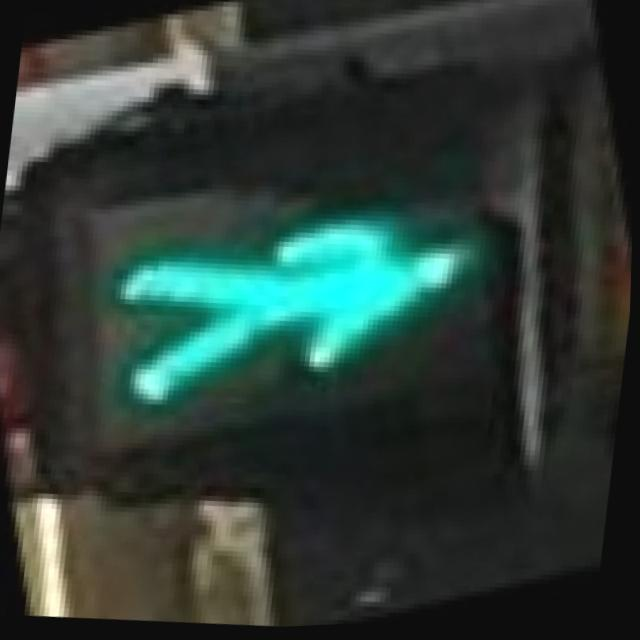green_light: (32, 67, 576, 565)
